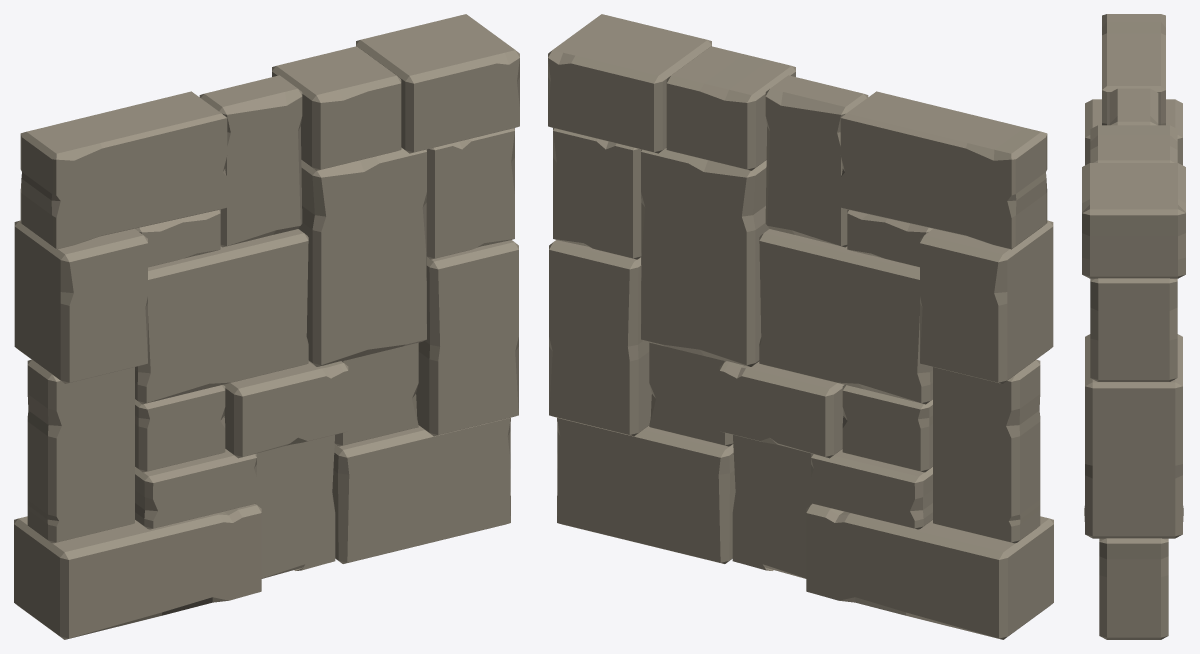
The model's file is Wall_Modular.glb.
The picture shows the model from 3 angles, left to right: view 1: azimuth 30°, elevation 25°; view 2: azimuth 150°, elevation 25°; view 3: azimuth 270°, elevation 25°; orthographic projection. The views are drawn at different scales.
Parts seen in each view (by area): view 1: Wall_Modular; view 2: Wall_Modular; view 3: Wall_Modular.
Boxes of the visible parts, x1,y1,x2,y2 form: Wall_Modular: (14,14,519,639); Wall_Modular: (548,14,1053,639); Wall_Modular: (1082,14,1185,639).
Bounding box in the file's own units: 0.9977 × 1 × 0.2184.
